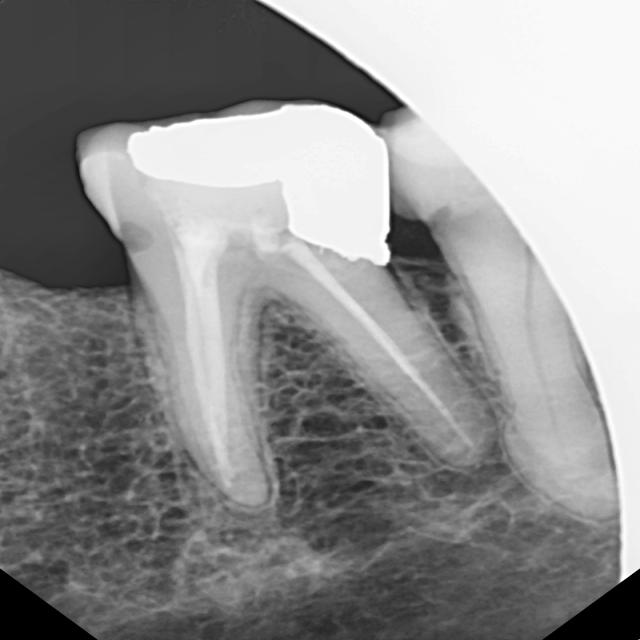RCT: (124, 246, 489, 501)
Restoration: (124, 94, 418, 268)
